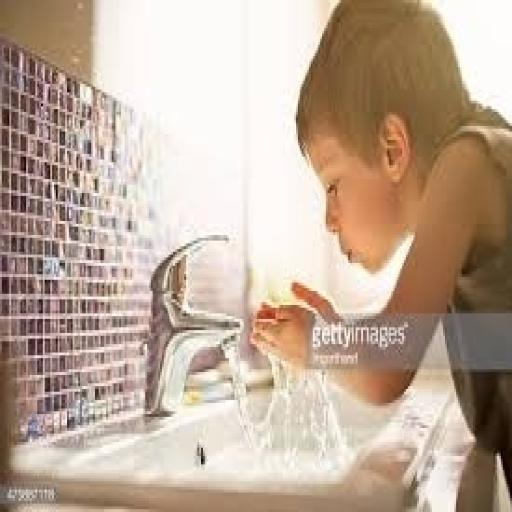drinking: (182, 45, 512, 512)
